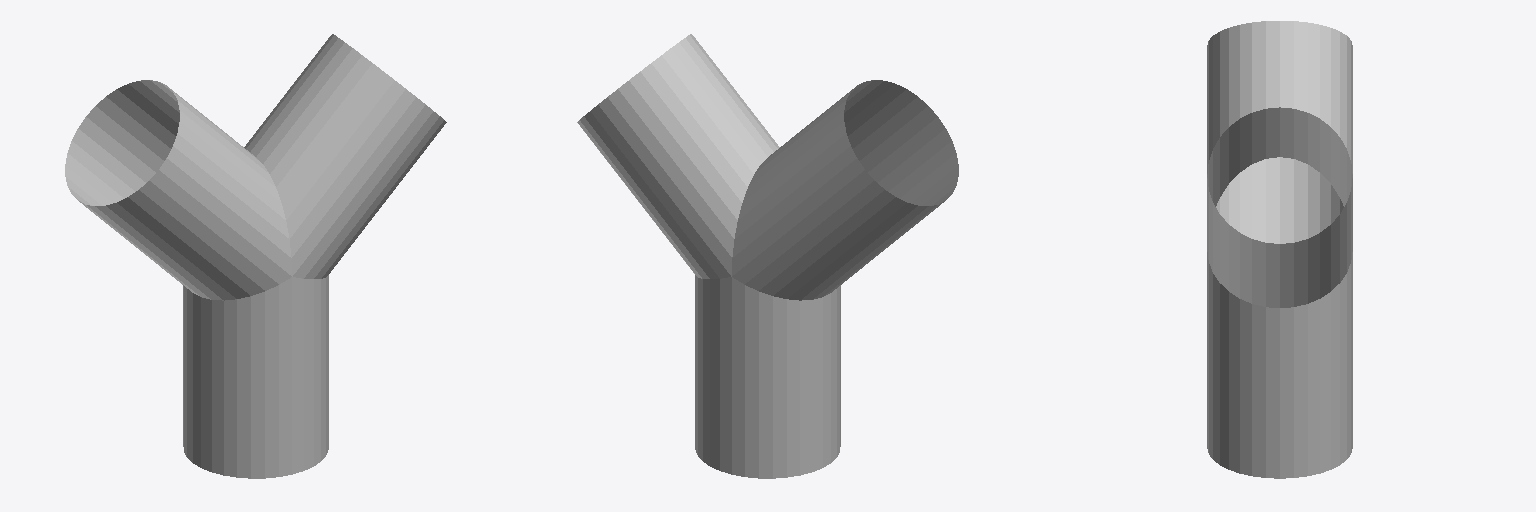
Rendered from Wye Joint.obj.
3 renders of one model, left to right at view 1: azimuth 30°, elevation 25°; view 2: azimuth 150°, elevation 25°; view 3: azimuth 270°, elevation 25°, orthographic.
Parts seen in each view (by area): view 1: Wye_Joint; view 2: Wye_Joint; view 3: Wye_Joint.
Boxes of the visible parts, box(x1,y1,x2,y2) form: Wye_Joint: box(65, 34, 446, 478); Wye_Joint: box(577, 34, 958, 478); Wye_Joint: box(1207, 21, 1352, 478).
Size of the model in its own units: 3.21 by 3.3 by 1.13.